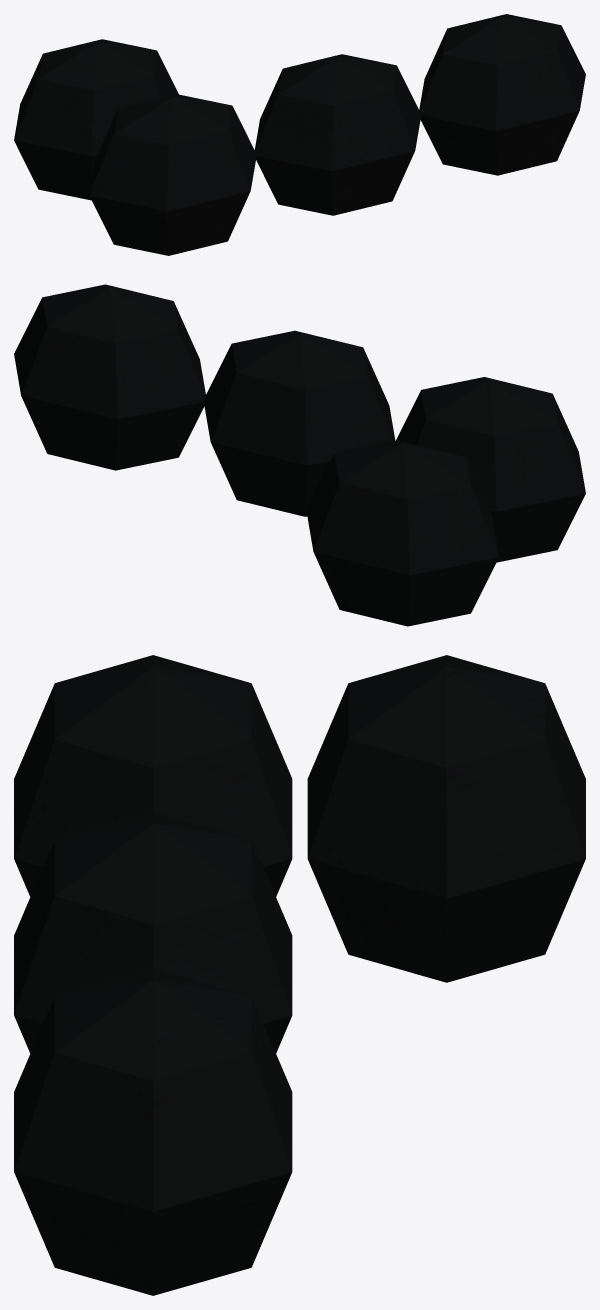
The model's file is PROP-64DCD9A70698_lod2.glb.
The picture shows the model from 3 angles, top to bottom: view 1: azimuth 30°, elevation 25°; view 2: azimuth 150°, elevation 25°; view 3: azimuth 270°, elevation 25°; orthographic projection. The views are drawn at different scales.
Visible parts, largest first — view 1: rubbish_bag.002; view 2: rubbish_bag.002; view 3: rubbish_bag.002.
Boxes of the visible parts, x1,y1,x2,y2 form: rubbish_bag.002: (14,14,585,255); rubbish_bag.002: (14,284,585,626); rubbish_bag.002: (14,655,585,1295).
Bounding box in the file's own units: 1.6 × 0.48 × 0.8184.
1 material, 1 textured.
